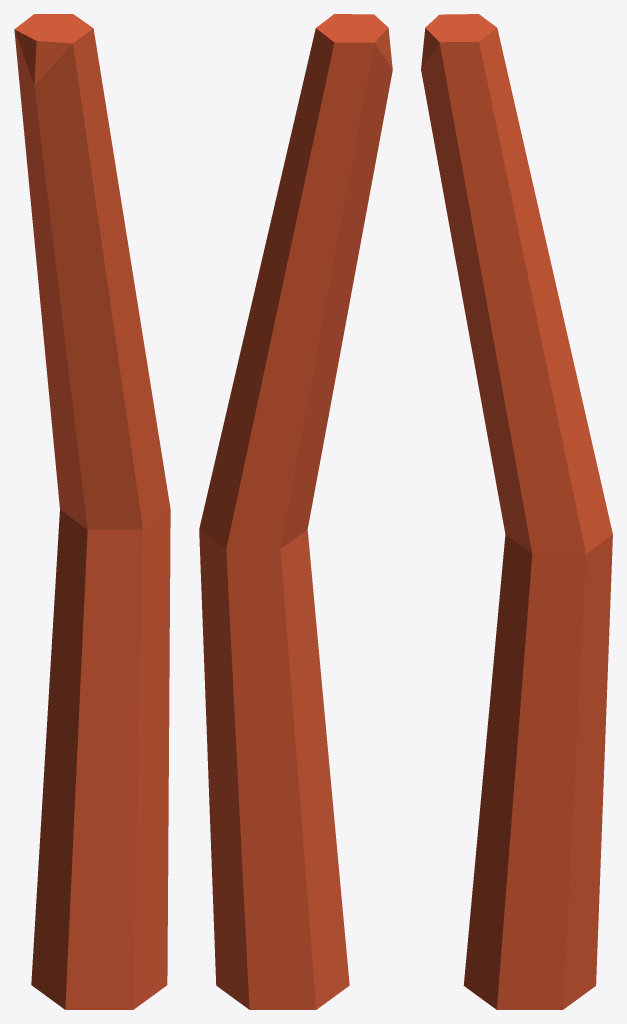
The model's file is Mahogany Cut.fbx.
3 renders of one model, left to right at view 1: azimuth 30°, elevation 25°; view 2: azimuth 150°, elevation 25°; view 3: azimuth 330°, elevation 25°, orthographic. The views are drawn at different scales.
Parts seen in each view (by area): view 1: Mahogany; view 2: Mahogany; view 3: Mahogany.
Part boxes in pixels (box(x1,y1,x2,y2)): Mahogany: box(14, 14, 170, 1009); Mahogany: box(199, 14, 392, 1009); Mahogany: box(421, 14, 612, 1009).
Size of the model in its own units: 383 by 297 by 2341.
